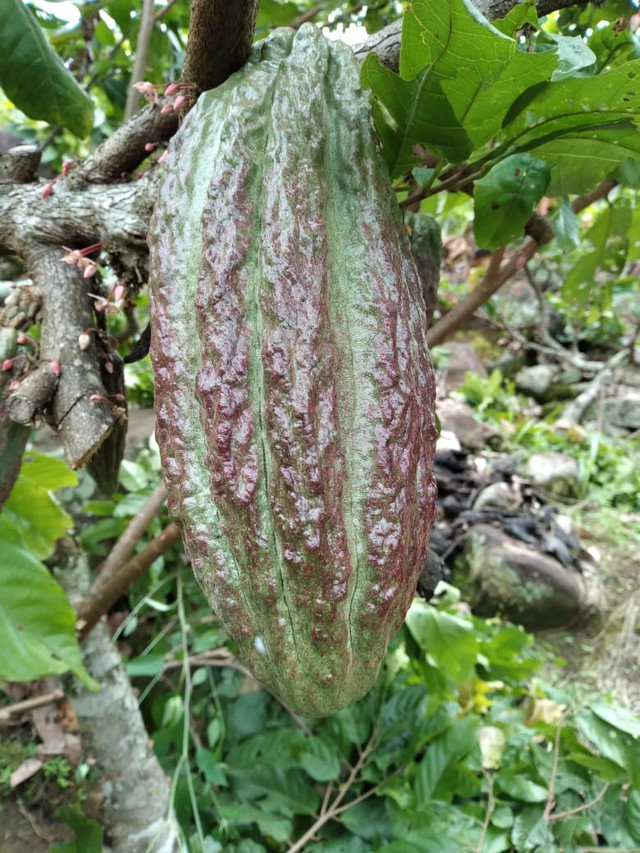Health: (135, 19, 454, 726)
